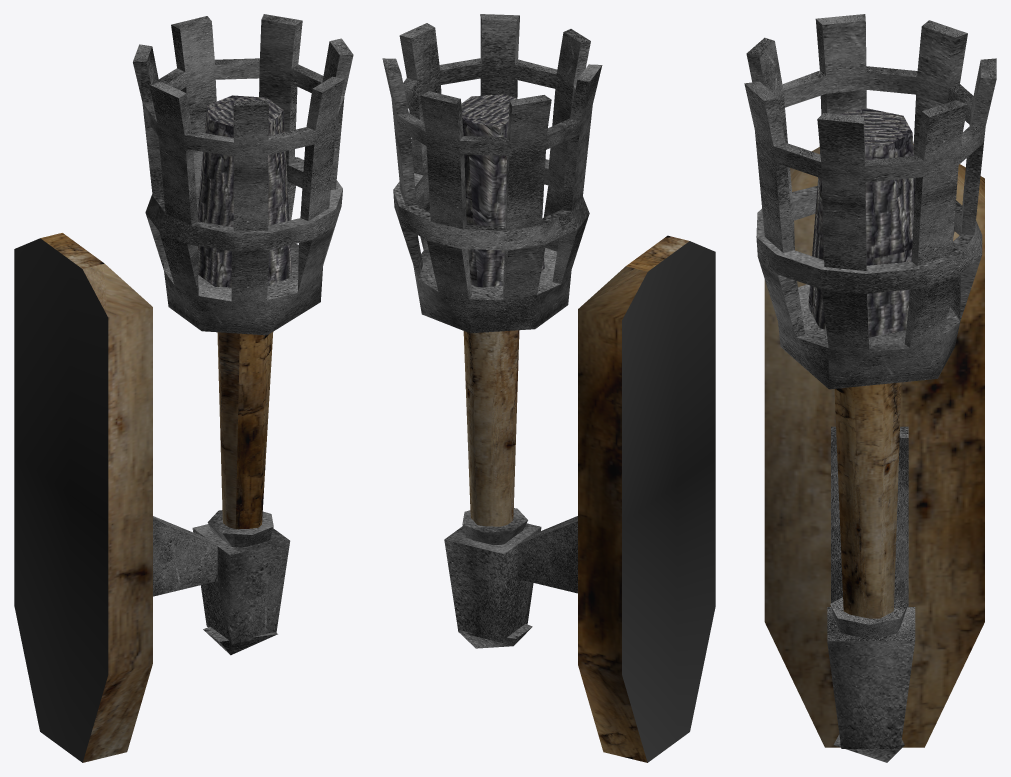
File: WallTorch.fbx
3 renders of one model, left to right at view 1: azimuth 30°, elevation 25°; view 2: azimuth 150°, elevation 25°; view 3: azimuth 270°, elevation 25°, orthographic. The views are drawn at different scales.
Visible parts, largest first — view 1: U3DMesh; view 2: U3DMesh; view 3: U3DMesh.
Boxes of the visible parts, x1,y1,x2,y2 form: U3DMesh: (14,14,353,762); U3DMesh: (382,14,715,762); U3DMesh: (744,14,996,762).
Bounding box in the file's own units: 34.5 × 77.18 × 23.34.
1 material, 1 textured.
